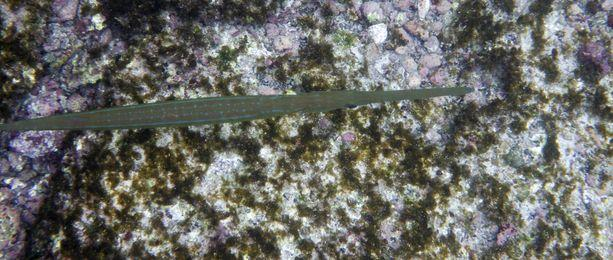Fistularia commersonii: (0, 81, 476, 134)
